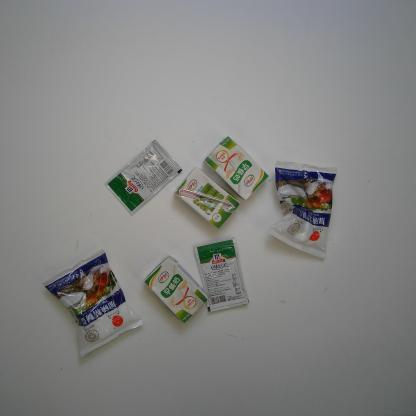Milk: (203, 135, 269, 201), (144, 256, 208, 324), (174, 166, 240, 230)
Seasoner: (43, 248, 144, 360), (267, 160, 338, 262), (104, 139, 183, 217), (193, 236, 250, 313)
